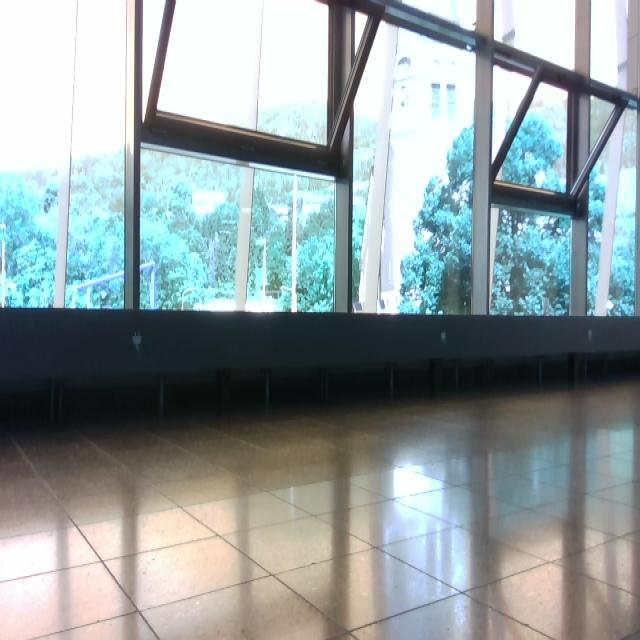door: (2, 1, 639, 638)
light bulb: (192, 189, 226, 217), (606, 301, 614, 310)
tiled floor: (2, 380, 639, 638)
window: (1, 1, 639, 320)
